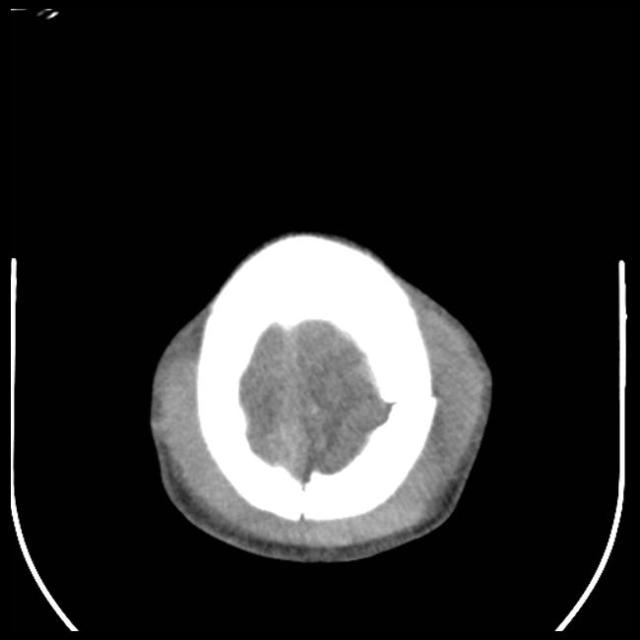lesion: (144, 226, 497, 567)
